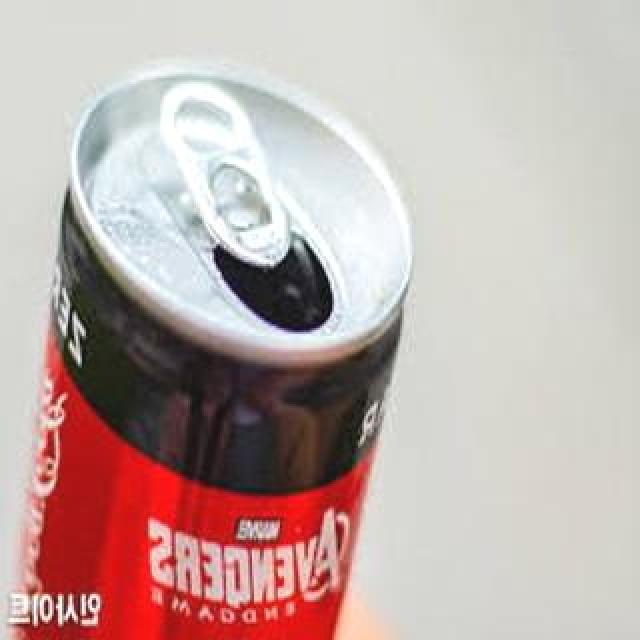Can: (11, 60, 413, 640)
